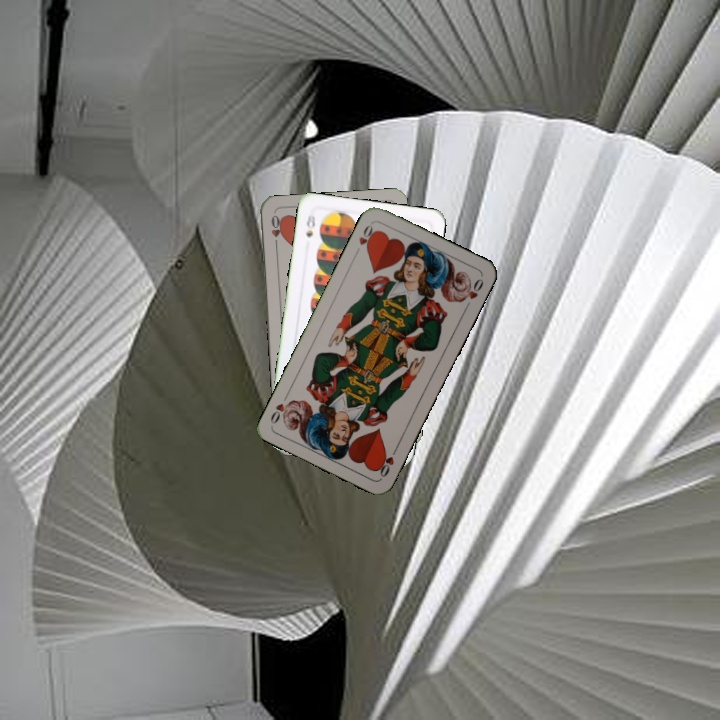HO: (373, 442, 401, 480), (351, 221, 379, 257), (267, 211, 284, 251)
S8: (302, 207, 318, 240)
